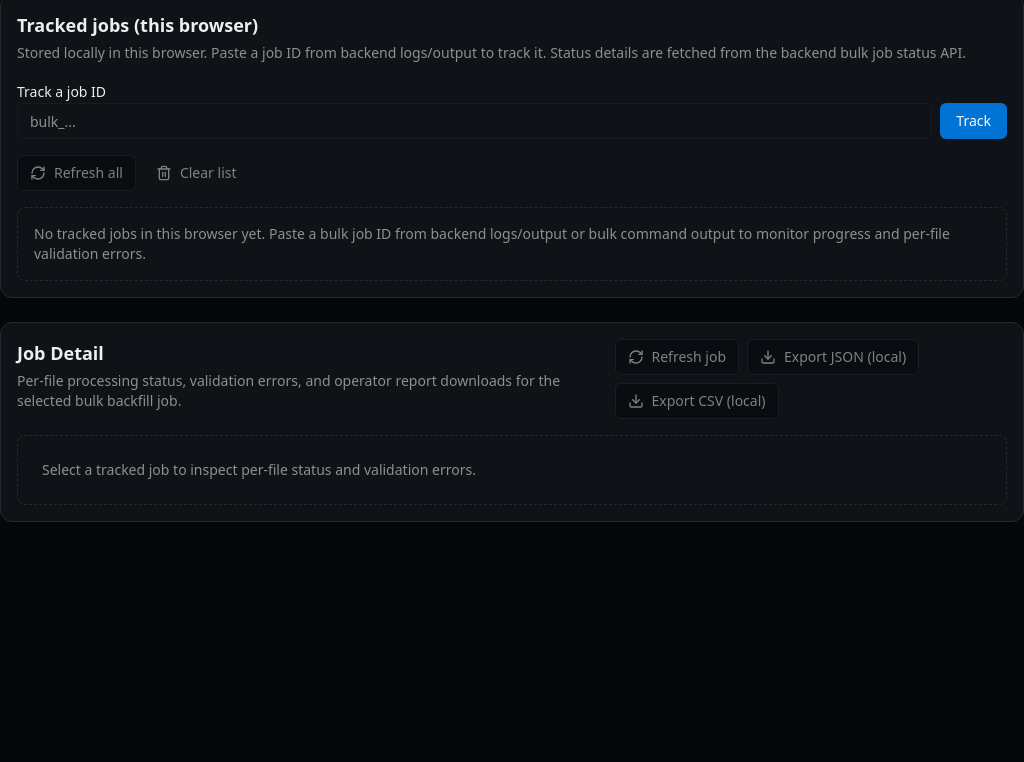
Scenario: AdminBulkBackfillMonitor › ignores stale non-abort errors from superseded refresh requests
This screenshot has width=1024, height=762.
Type "bulk_race_error" into the field labelled "Track a job ID" at (475, 121), box [17, 103, 932, 139]
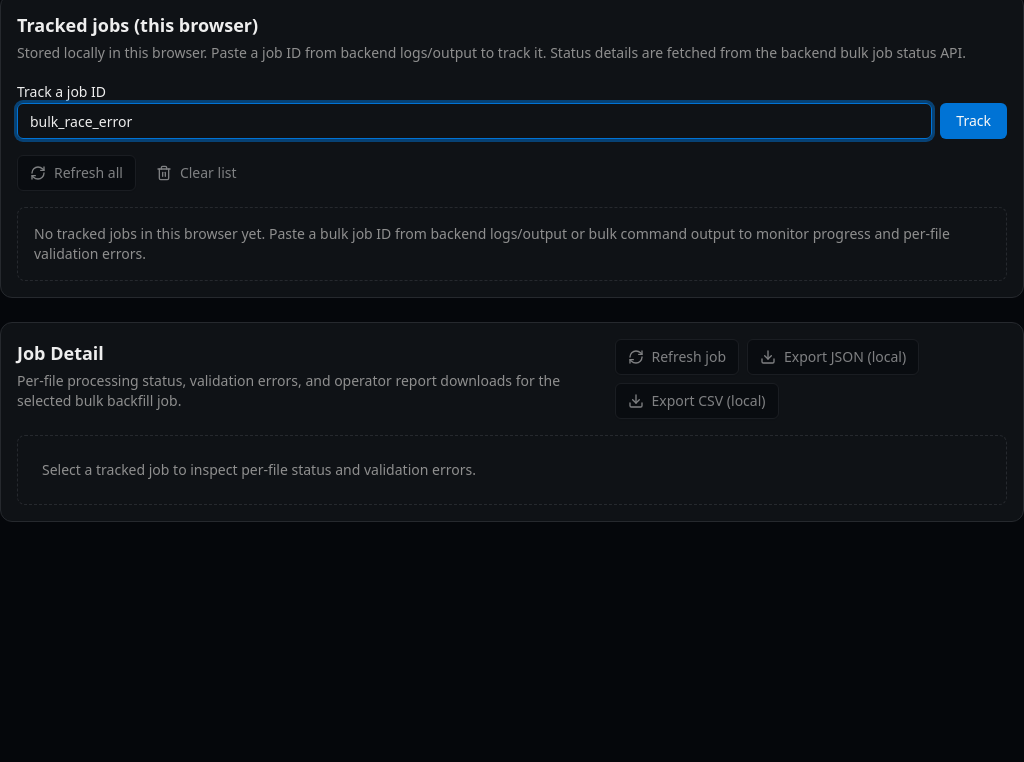
Click the button "Track" at (974, 121), box [940, 103, 1007, 139]
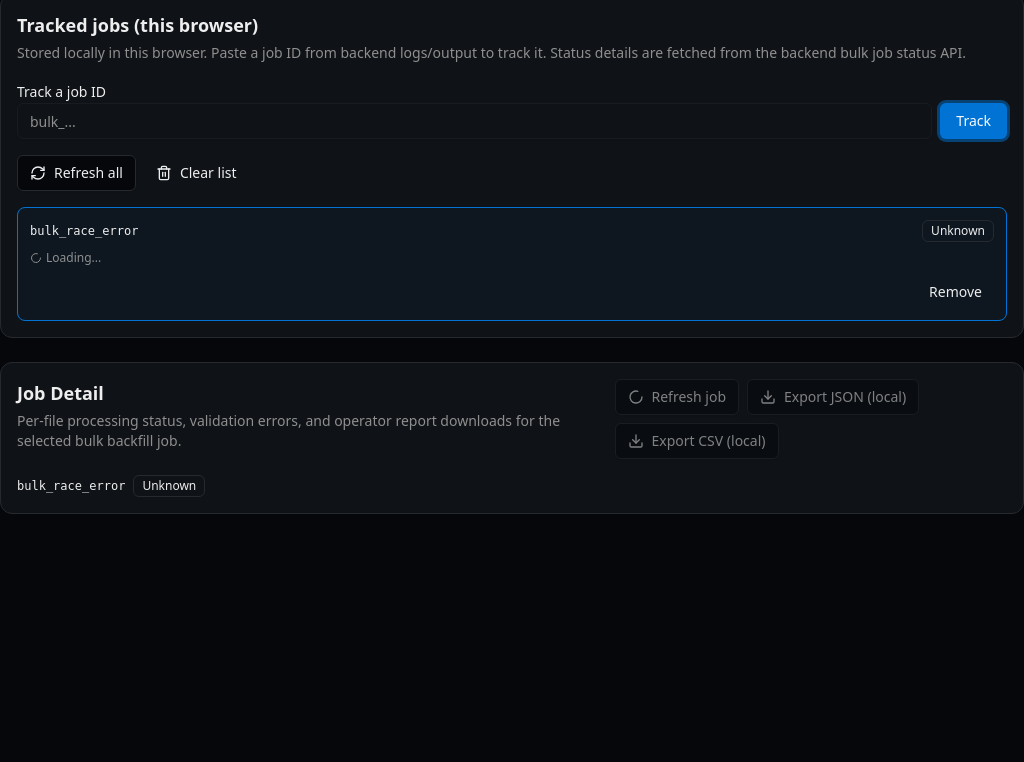
Click the button with aria-label "Refresh tracked jobs" at (76, 173), box [17, 155, 136, 191]
(page scrolled)
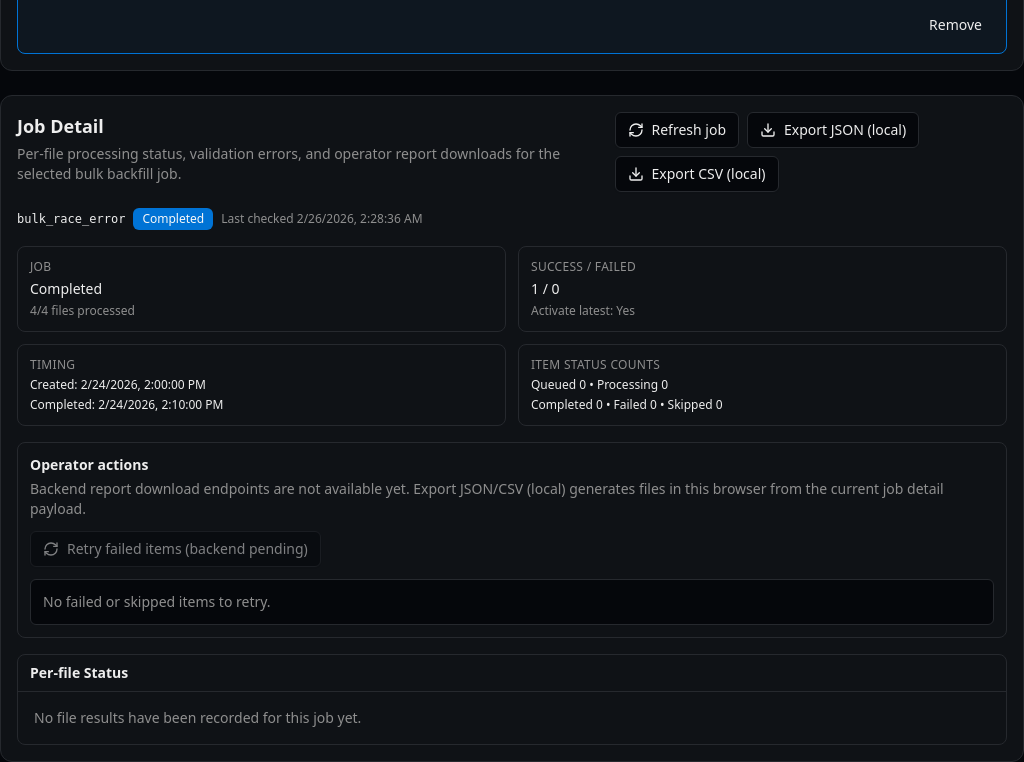
Now the text "No file results have been recorded for this job yet." is shown, box [34, 708, 361, 727]
Now the text "Unable to load job status" is gone
